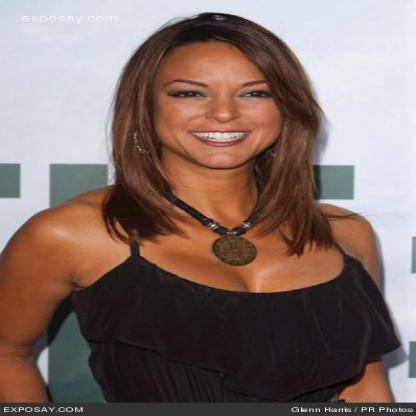long-hair: (96, 169, 340, 231)
